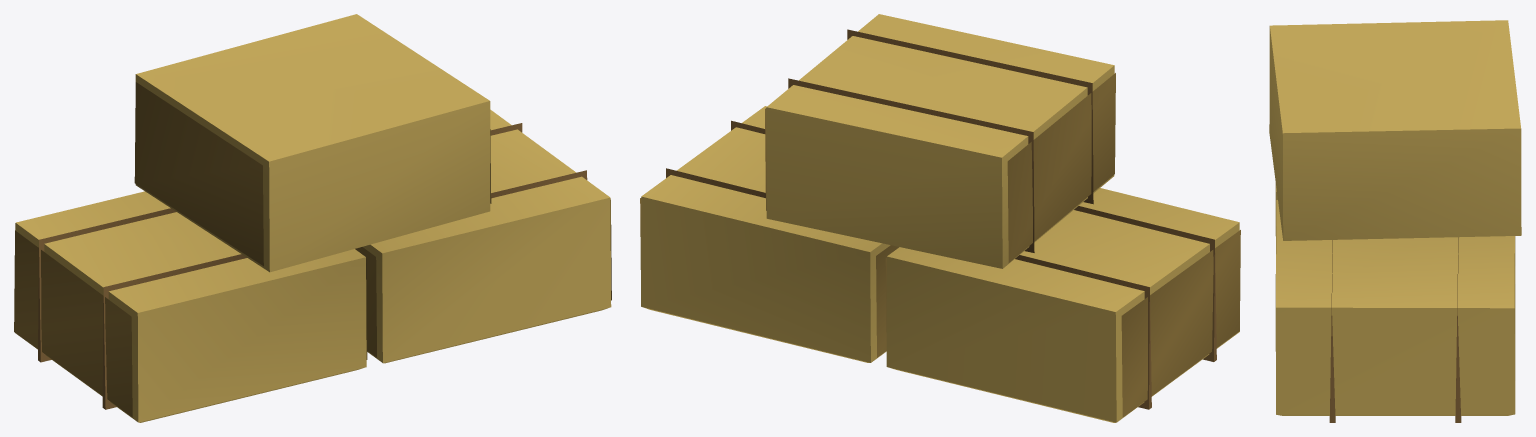
File: hayStack.far.glb
3 renders of one model, left to right at view 1: azimuth 30°, elevation 25°; view 2: azimuth 150°, elevation 25°; view 3: azimuth 270°, elevation 25°, orthographic. The views are drawn at different scales.
Parts seen in each view (by area): view 1: hayStack_far; view 2: hayStack_far; view 3: hayStack_far.
Part boxes in pixels (box(x1,y1,x2,y2)): hayStack_far: box(14, 14, 611, 422); hayStack_far: box(640, 14, 1240, 422); hayStack_far: box(1269, 20, 1521, 422).
Bounding box in the file's own units: 1.89 × 0.915 × 0.8825.
